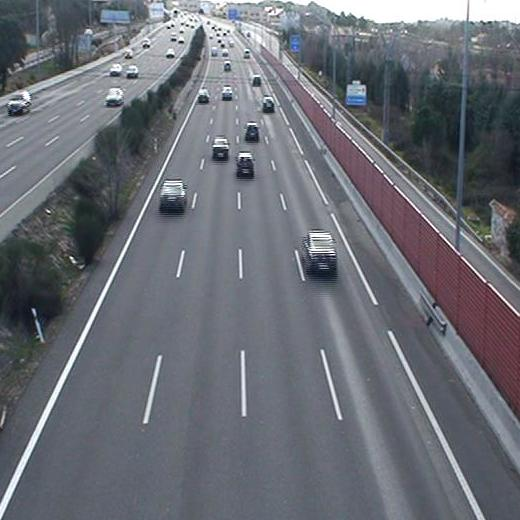car: (300, 230, 337, 274), (160, 181, 187, 212), (236, 150, 255, 178), (211, 137, 229, 160), (244, 121, 260, 142), (261, 95, 275, 113), (221, 84, 234, 102), (196, 87, 210, 103), (252, 75, 262, 87), (223, 60, 232, 71)
